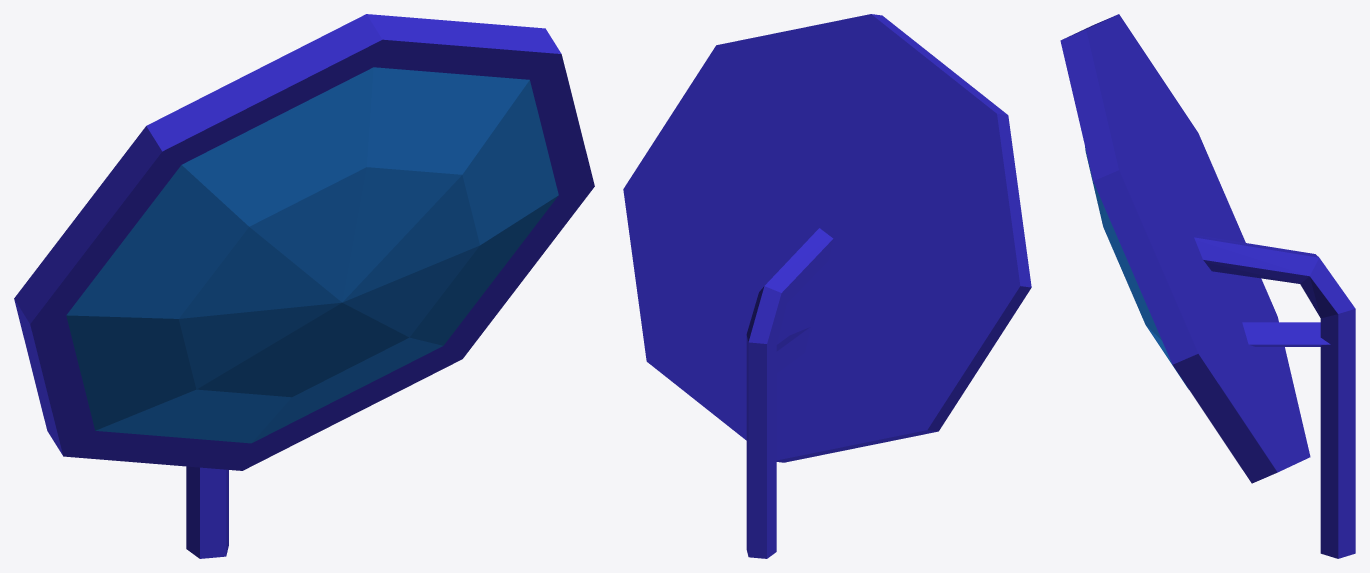
File: SM_round_mirror.fbx
3 views of the same model, side by side, from view 1: azimuth 30°, elevation 25°; view 2: azimuth 150°, elevation 25°; view 3: azimuth 270°, elevation 25° (orthographic). The views are drawn at different scales.
Visible parts, largest first — view 1: round_mirror; view 2: round_mirror; view 3: round_mirror.
Part boxes in pixels (x1,y1,x2,y2): round_mirror: (14,14,594,558); round_mirror: (623,14,1031,558); round_mirror: (1060,14,1355,558).
Size of the model in its own units: 47.78 by 52.65 by 26.99.
